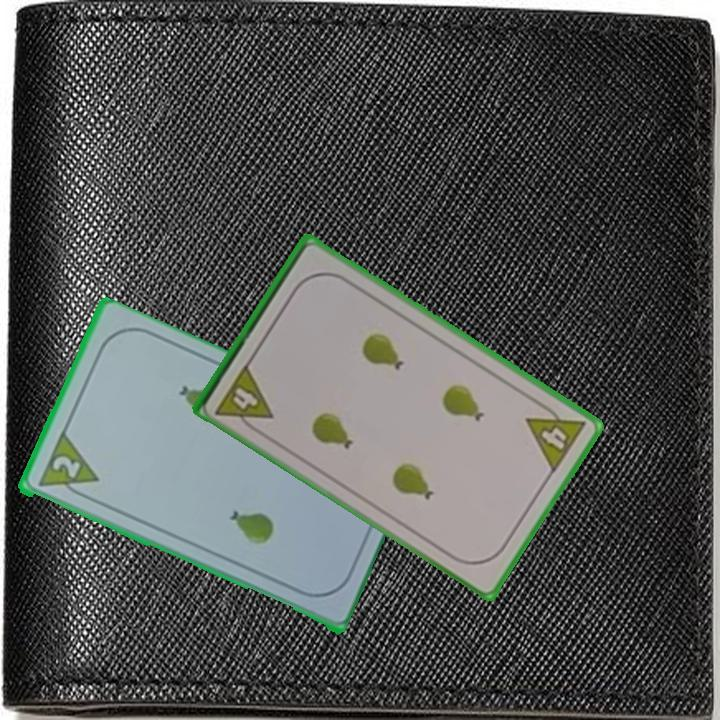2p: (48, 452, 83, 482)
4p: (522, 397, 589, 476), (212, 360, 276, 437)
